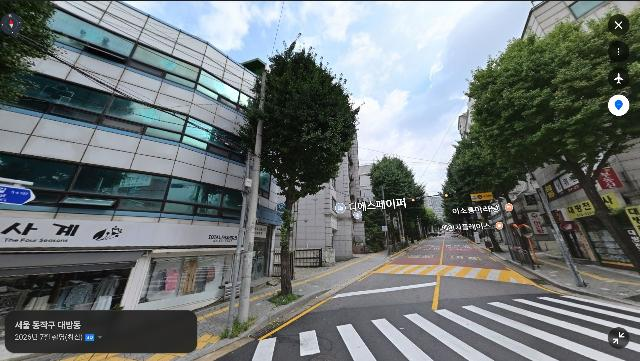other: (460, 0, 640, 266), (237, 32, 364, 301), (438, 127, 520, 252), (0, 0, 70, 107), (364, 152, 427, 245), (419, 201, 438, 242)
